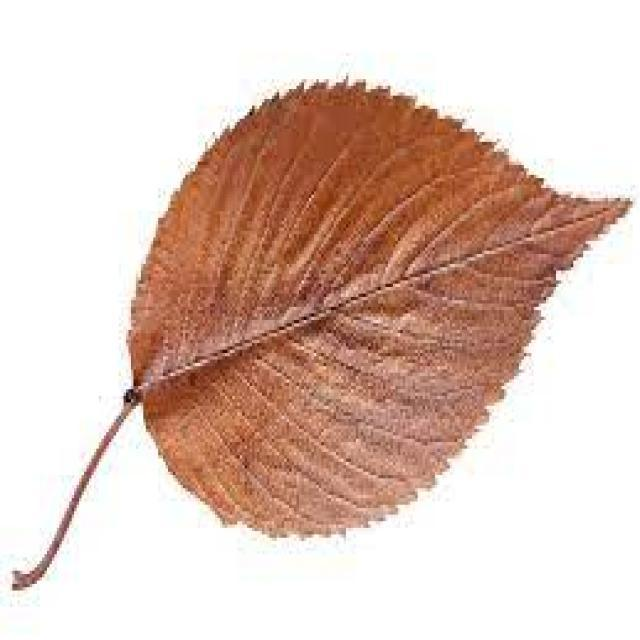leaf: (9, 72, 634, 589)
